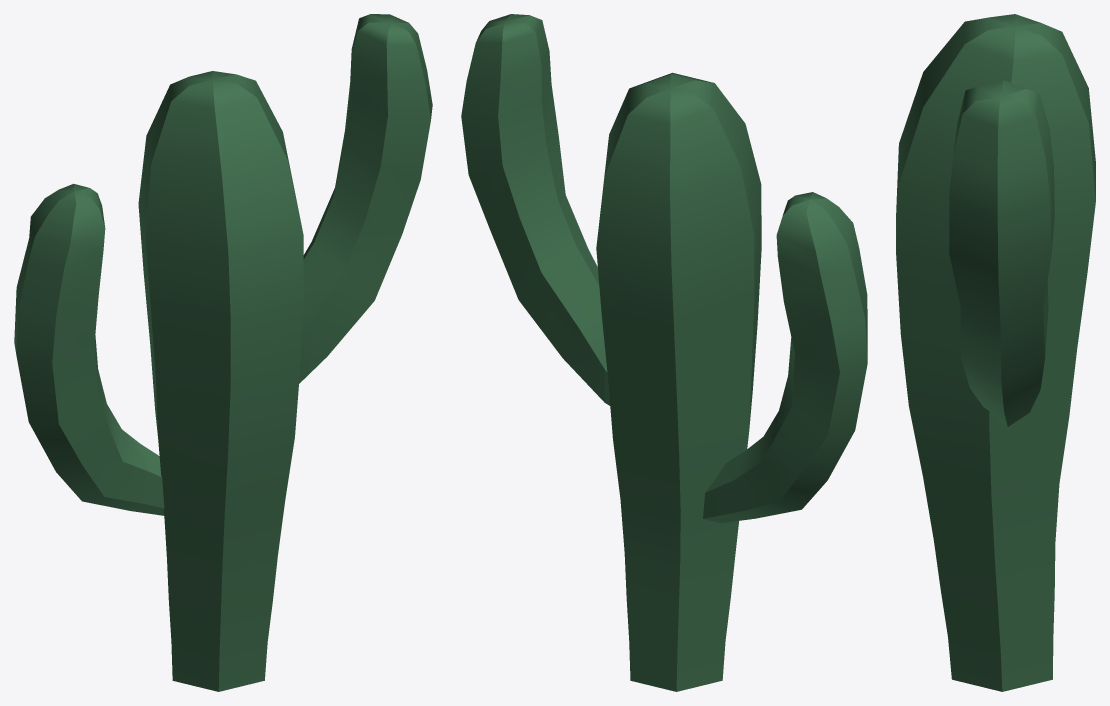
File: a_z1_cactus_03.fbx
3 renders of one model, left to right at view 1: azimuth 30°, elevation 25°; view 2: azimuth 150°, elevation 25°; view 3: azimuth 270°, elevation 25°, orthographic. The views are drawn at different scales.
Parts seen in each view (by area): view 1: a_z1_Cactus3; view 2: a_z1_Cactus3; view 3: a_z1_Cactus3.
Part boxes in pixels (left/top/right/bottom): a_z1_Cactus3: left=14, top=14, right=432, bottom=691; a_z1_Cactus3: left=461, top=14, right=867, bottom=691; a_z1_Cactus3: left=896, top=14, right=1095, bottom=691.
Bounding box in the file's own units: 169 × 241 × 65.3.
